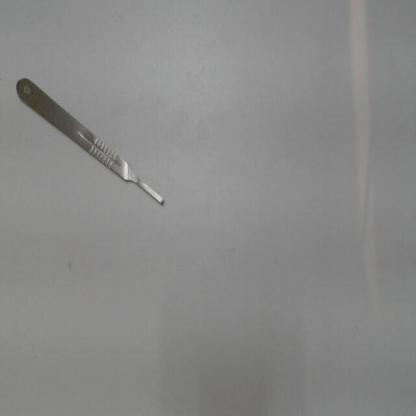No.4 BP Handle: (6, 59, 181, 226)
